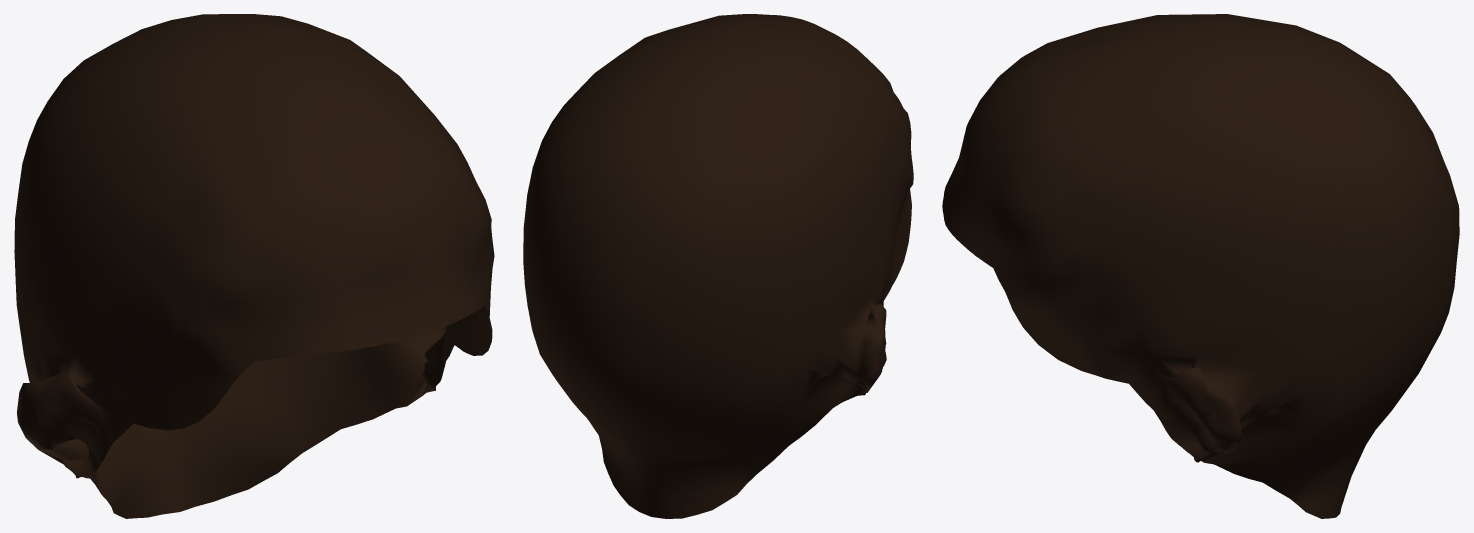
The model's file is hair_crop.glb.
3 renders of one model, left to right at view 1: azimuth 30°, elevation 25°; view 2: azimuth 150°, elevation 25°; view 3: azimuth 270°, elevation 25°, orthographic. The views are drawn at different scales.
Visible parts, largest first — view 1: hair_crop; view 2: hair_crop; view 3: hair_crop.
Part boxes in pixels (x1,y1,x2,y2): hair_crop: (14, 14, 494, 518); hair_crop: (523, 14, 913, 518); hair_crop: (942, 14, 1459, 518).
Bounding box in the file's own units: 0.1948 × 0.2258 × 0.2242.
